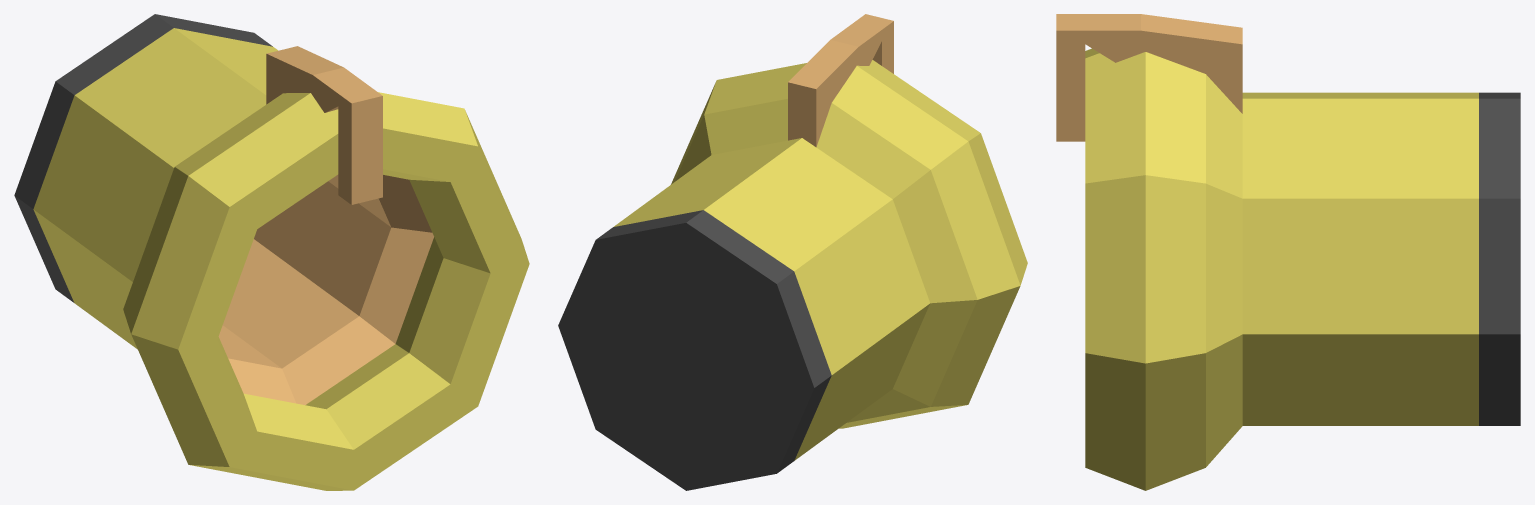
Rendered from aux_female_adapter.fbx.
3 views of the same model, side by side, from view 1: azimuth 30°, elevation 25°; view 2: azimuth 150°, elevation 25°; view 3: azimuth 270°, elevation 25° (orthographic). The views are drawn at different scales.
Parts seen in each view (by area): view 1: Torus; view 2: Torus; view 3: Torus.
Boxes of the visible parts, x1=… form: Torus: x1=14, y1=14, x2=529, y2=490; Torus: x1=558, y1=14, x2=1027, y2=490; Torus: x1=1056, y1=14, x2=1520, y2=490.
Bounding box in the file's own units: 75.42 × 80.07 × 82.53.
